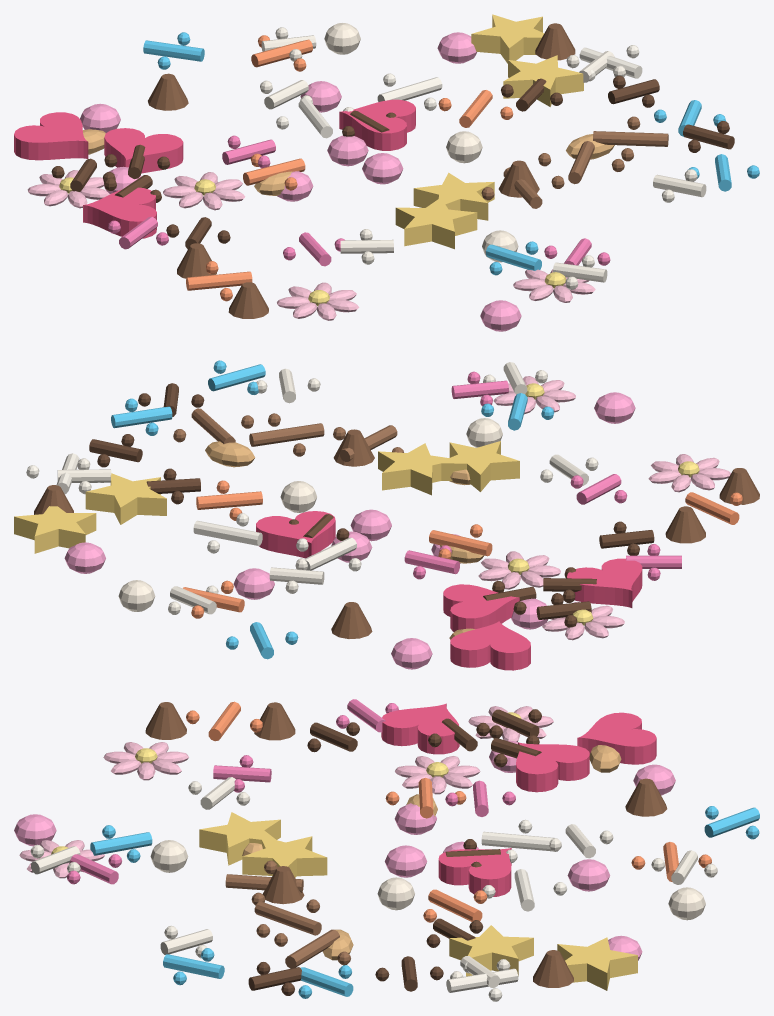
Rendered from toppings_round_1_tier.glb.
3 renders of one model, top to bottom at view 1: azimuth 30°, elevation 25°; view 2: azimuth 150°, elevation 25°; view 3: azimuth 270°, elevation 25°, orthographic. The views are drawn at different scales.
Parts seen in each view (by area): view 1: ToppingHeart_round_1_00, ToppingStar_round_1_01, ToppingHeart_round_1_03, ToppingHeart_round_1_01, ToppingStar_round_1_00, ToppingHeart_round_1_02, ToppingStar_round_1_03, ToppingStar_round_1_02, ToppingChocolateChip_round_1_00, ToppingChocolateChip_round_1_03, ToppingSprinkle_round_1_14_Body, ToppingChocolateChip_round_1_01 (+32 smaller); view 2: ToppingHeart_round_1_00, ToppingHeart_round_1_02, ToppingStar_round_1_00, ToppingStar_round_1_03, ToppingHeart_round_1_01, ToppingHeart_round_1_03, ToppingStar_round_1_01, ToppingStar_round_1_02, ToppingChocolateChip_round_1_02, ToppingSprinkle_round_1_04_Body, ToppingChocolateChip_round_1_00, ToppingDot_round_1_00 (+35 smaller); view 3: ToppingHeart_round_1_01, ToppingHeart_round_1_02, ToppingHeart_round_1_00, ToppingHeart_round_1_03, ToppingStar_round_1_00, ToppingStar_round_1_02, ToppingStar_round_1_03, ToppingStar_round_1_01, ToppingChocolateChip_round_1_03, ToppingChocolateChip_round_1_00, ToppingChocolateChip_round_1_01, ToppingDot_round_1_02 (+35 smaller).
Boxes of the visible parts, x1=… form: ToppingHeart_round_1_00: x1=14, y1=112, x2=88, y2=160; ToppingStar_round_1_01: x1=395, y1=197, x2=477, y2=249; ToppingHeart_round_1_03: x1=339, y1=99, x2=415, y2=150; ToppingHeart_round_1_01: x1=104, y1=128, x2=183, y2=173; ToppingStar_round_1_00: x1=471, y1=14, x2=544, y2=63; ToppingHeart_round_1_02: x1=83, y1=187, x2=156, y2=238; ToppingStar_round_1_03: x1=503, y1=55, x2=583, y2=106; ToppingStar_round_1_02: x1=413, y1=172, x2=494, y2=220; ToppingChocolateChip_round_1_00: x1=148, y1=73, x2=188, y2=110; ToppingChocolateChip_round_1_03: x1=228, y1=282, x2=268, y2=318; ToppingSprinkle_round_1_14_Body: x1=593, y1=131, x2=668, y2=146; ToppingChocolateChip_round_1_01: x1=535, y1=23, x2=575, y2=60; ToppingHeart_round_1_00: x1=450, y1=621, x2=530, y2=670; ToppingHeart_round_1_02: x1=567, y1=558, x2=642, y2=607; ToppingStar_round_1_00: x1=14, y1=506, x2=96, y2=553; ToppingStar_round_1_03: x1=85, y1=473, x2=166, y2=524; ToppingHeart_round_1_01: x1=443, y1=584, x2=519, y2=631; ToppingHeart_round_1_03: x1=256, y1=511, x2=335, y2=558; ToppingStar_round_1_01: x1=438, y1=441, x2=519, y2=491; ToppingStar_round_1_02: x1=378, y1=443, x2=452, y2=495; ToppingChocolateChip_round_1_02: x1=665, y1=506, x2=705, y2=543; ToppingSprinkle_round_1_04_Body: x1=249, y1=423, x2=324, y2=446; ToppingChocolateChip_round_1_00: x1=331, y1=602, x2=372, y2=638; ToppingDot_round_1_00: x1=594, y1=392, x2=635, y2=423; ToppingHeart_round_1_01: x1=516, y1=742, x2=589, y2=792; ToppingHeart_round_1_02: x1=381, y1=703, x2=459, y2=754; ToppingHeart_round_1_00: x1=577, y1=712, x2=656, y2=764; ToppingHeart_round_1_03: x1=438, y1=848, x2=511, y2=896; ToppingStar_round_1_00: x1=557, y1=937, x2=637, y2=990; ToppingStar_round_1_02: x1=242, y1=836, x2=327, y2=877; ToppingStar_round_1_03: x1=449, y1=925, x2=533, y2=976; ToppingStar_round_1_01: x1=199, y1=812, x2=280, y2=865; ToppingChocolateChip_round_1_03: x1=145, y1=702, x2=186, y2=739; ToppingChocolateChip_round_1_00: x1=625, y1=778, x2=667, y2=816; ToppingChocolateChip_round_1_01: x1=533, y1=950, x2=573, y2=987; ToppingDot_round_1_02: x1=567, y1=859, x2=610, y2=891.
Size of the model in its own units: 1.42 by 0.0993 by 1.5.
